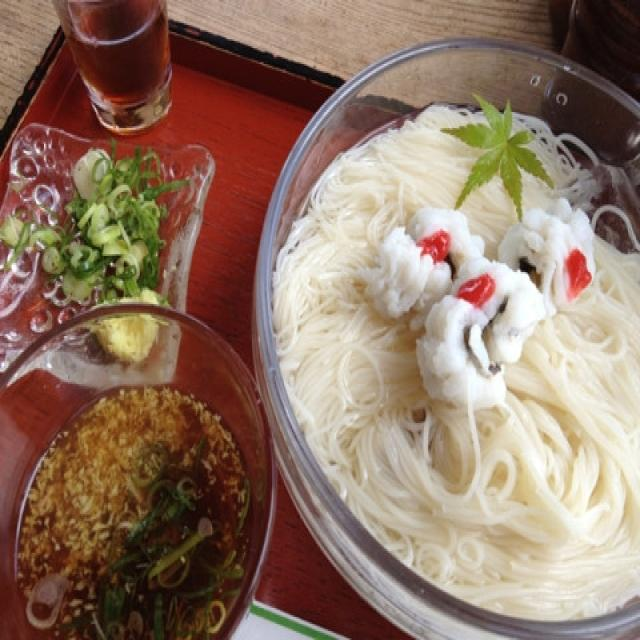面条主食: (244, 18, 633, 615)
